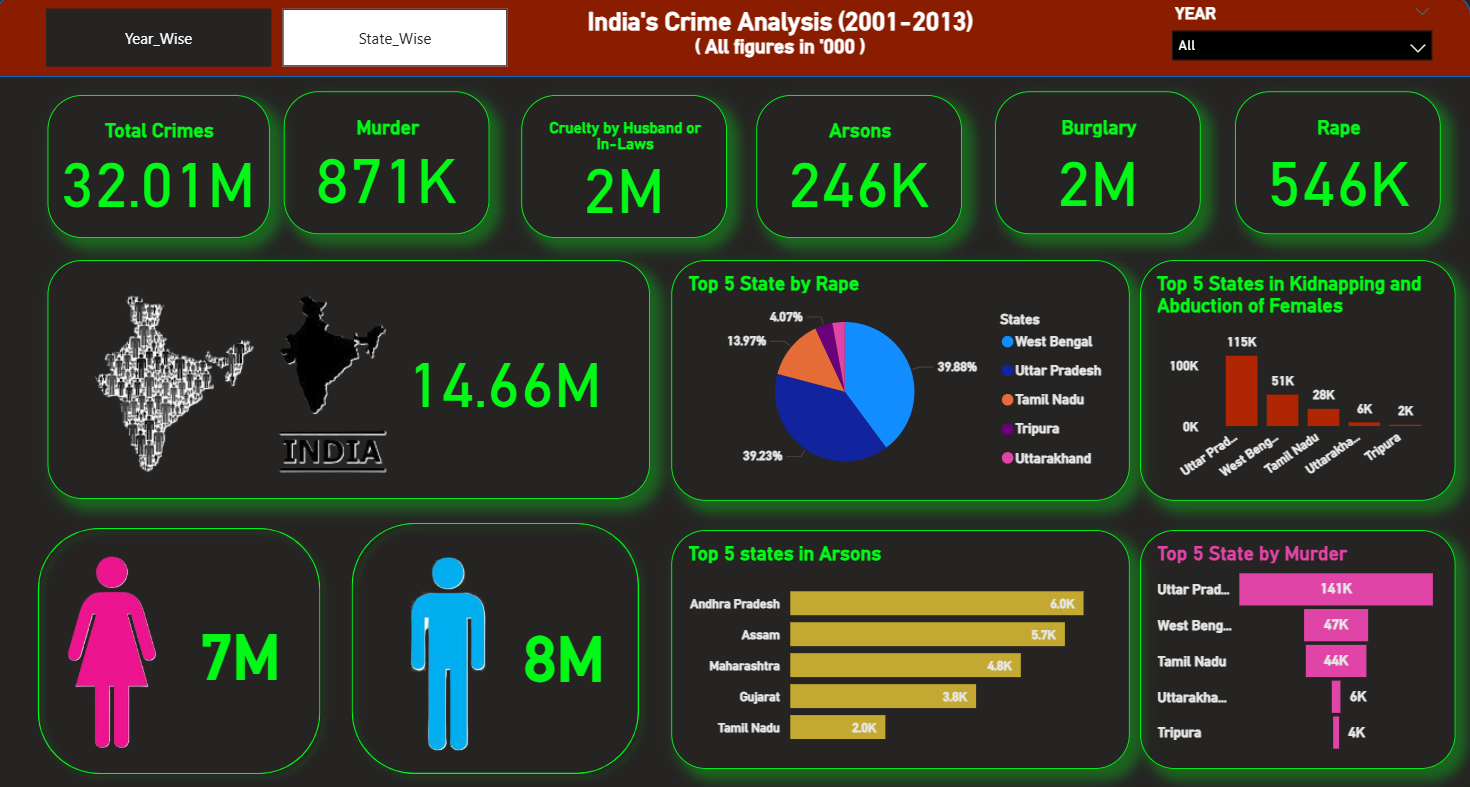

What the dashboard file says about the page in this screenshot:
{"tool":"powerbi","page":{"name":"Year_Wise","canvas":[1280,688],"ordinal":0},"visuals":[{"type":"shape","box":[28.6,452.9,262.9,231.4],"z":0},{"type":"shape","box":[300,448.6,267.1,235.7],"z":1000},{"type":"shape","box":[45,230,522.5,207.5],"z":2000},{"type":"shape","box":[0,0,1280,71.2],"z":3000},{"type":"card","title":"Arsons","fields":{"Values":["Sum(final (2).ARSON)","select"]},"box":[660,86.2,178.8,123.8],"z":4000},{"type":"card","title":"Murder","fields":{"Values":["select","Sum(final (2).MURDER)"]},"box":[250,83.8,178.8,123.8],"z":5000},{"type":"slicer","fields":{"Values":["final (2).YEAR"]},"box":[1010,2.5,246.2,72.5],"z":6000},{"type":"card","title":"Cruelty by Husband or In-Laws","fields":{"Values":["select","Sum(final (2).CRUELTY BY HUSBAND OR HIS RELATIVES)"]},"box":[456.2,86.2,178.8,123.8],"z":7000},{"type":"card","title":"Total Crimes","fields":{"Values":["select","Sum(final (2).TotalCrime)"]},"box":[45,86.2,192.5,123.8],"z":8000},{"type":"card","title":"Burglary","fields":{"Values":["select","Sum(final (2).BURGLARY)"]},"box":[867.5,83.8,178.8,123.8],"z":9000},{"type":"card","title":"Total Population","fields":{"Values":["select","Sum(final (2).POPULATION)"]},"box":[351.7,278.3,181.7,105],"z":10000},{"type":"card","fields":{"Values":["select","Sum(final (2).FEMALES)"]},"box":[141.4,517.1,142.9,100],"z":11000},{"type":"card","fields":{"Values":["select","Sum(final (2).MALES)"]},"box":[422.5,531.2,141.2,76.2],"z":12000},{"type":"barChart","title":"Top 5 states in Arsons","fields":{"Category":["final (2).STATE/UT"],"Y":["Sum(final (2).ARSON)"]},"box":[586.2,463.8,397.5,207.5],"z":13000},{"type":"pieChart","title":"Top 5 State by Rape","fields":{"Category":["final (2).STATE/UT"],"Y":["Sum(final (2).RAPE)"]},"box":[586.2,230,397.5,208.8],"z":14000},{"type":"textbox","box":[480,5,401.2,62.5],"z":15000},{"type":"funnel","title":"Top 5 State by Murder","fields":{"Category":["final (2).STATE/UT"],"Y":["Sum(final (2).MURDER)"]},"box":[992.5,463.8,273.8,207.5],"z":16000},{"type":"card","title":"Rape","fields":{"Values":["select","Sum(final (2).RAPE)"]},"box":[1075,83.8,178.8,123.8],"z":17000},{"type":"clusteredColumnChart","title":"Top 5 States in Kidnapping and Abduction of Females","fields":{"Y":["Sum(final (2).KIDNAPPING AND ABDUCTION OF WOMEN AND GIRLS)"],"Category":["final (2).STATE/UT"]},"box":[992.5,230,273.8,208.8],"z":18000},{"type":"pageNavigator","box":[44.3,11.4,400,50],"z":19000},{"type":"image","box":[306.7,481.7,178.3,178.3],"z":20000},{"type":"image","box":[7.1,478.6,194.3,178.6],"z":21000},{"type":"image","box":[69.8,231.4,284.9,208.1],"z":21001}]}

Visuals, with their boxes in screenshot pixels (x1, y1, x2, y2), scaled from the page's 1280x688 canvas onto the 1470x787 screenshot:
shape: Rect(33, 518, 335, 783)
shape: Rect(345, 513, 651, 783)
shape: Rect(52, 263, 652, 500)
shape: Rect(0, 0, 1469, 81)
"Arsons" card: Rect(758, 99, 963, 240)
"Murder" card: Rect(287, 96, 492, 237)
slicer - final (2).YEAR: Rect(1160, 3, 1443, 86)
"Cruelty by Husband or In-Laws" card: Rect(524, 99, 729, 240)
"Total Crimes" card: Rect(52, 99, 273, 240)
"Burglary" card: Rect(996, 96, 1202, 237)
"Total Population" card: Rect(404, 318, 613, 438)
card - select x Sum(final (2).FEMALES): Rect(162, 592, 327, 706)
card - select x Sum(final (2).MALES): Rect(485, 608, 647, 695)
"Top 5 states in Arsons" barChart: Rect(673, 531, 1130, 768)
"Top 5 State by Rape" pieChart: Rect(673, 263, 1130, 502)
textbox: Rect(551, 6, 1012, 77)
"Top 5 State by Murder" funnel: Rect(1140, 531, 1454, 768)
"Rape" card: Rect(1235, 96, 1440, 237)
"Top 5 States in Kidnapping and Abduction of Females" clusteredColumnChart: Rect(1140, 263, 1454, 502)
pageNavigator: Rect(51, 13, 510, 70)
image: Rect(352, 551, 557, 755)
image: Rect(8, 547, 231, 752)
image: Rect(80, 265, 407, 503)
